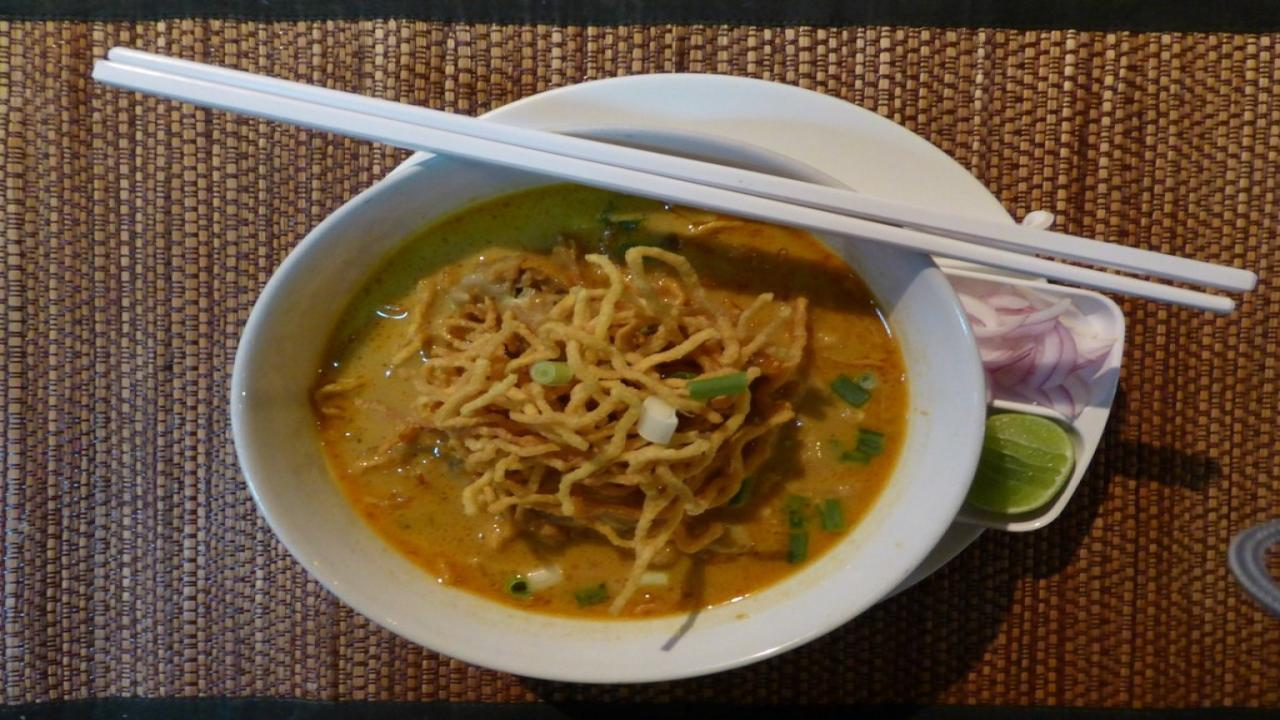chopstick: (94, 47, 1255, 314)
